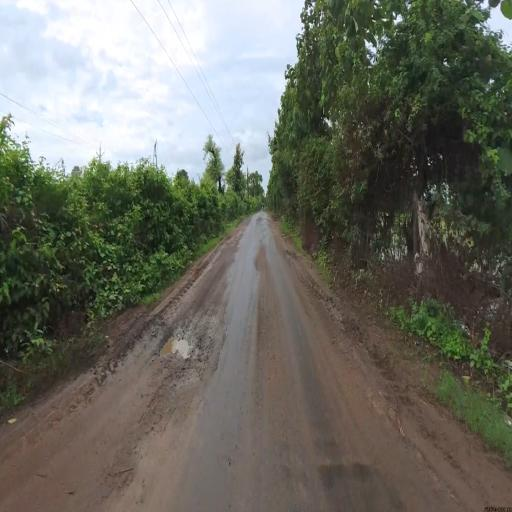pothole: (149, 298, 224, 414)
